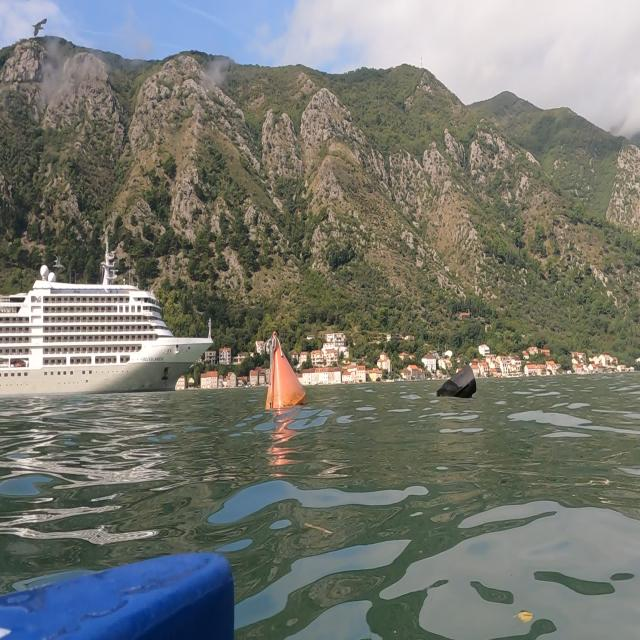boat: (1, 232, 215, 398)
buoy: (255, 324, 318, 422), (426, 352, 486, 418)
